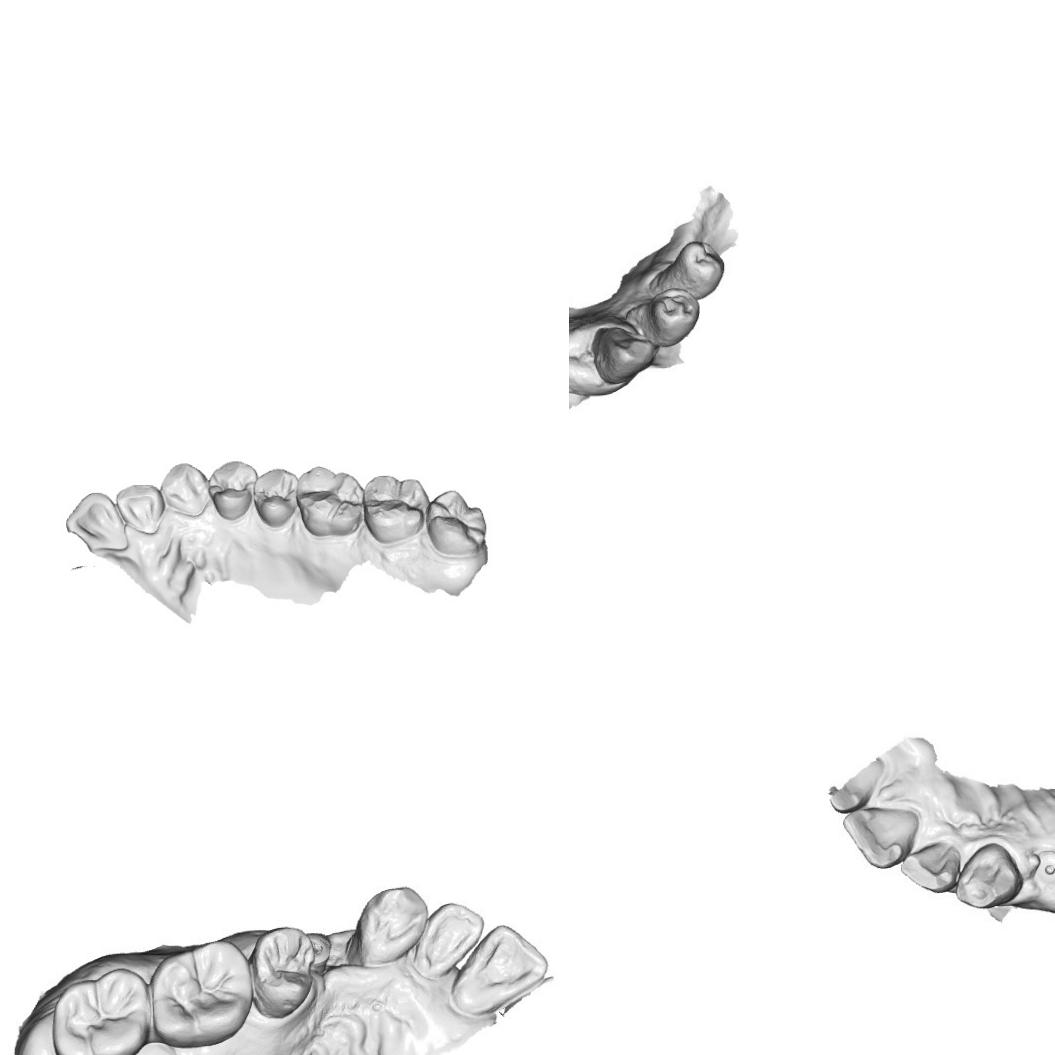canine: (343, 882, 432, 972), (953, 845, 1024, 909), (592, 326, 658, 386), (158, 460, 212, 518)
implant: (1032, 844, 1055, 893)
incisor: (447, 920, 552, 1022), (411, 899, 487, 981), (846, 801, 924, 873), (63, 490, 131, 553), (113, 482, 167, 536), (906, 843, 963, 892)
molar: (152, 942, 248, 1052), (47, 968, 152, 1055), (294, 463, 368, 538), (360, 470, 428, 546), (424, 487, 490, 560)
premolar: (251, 921, 321, 1014), (206, 459, 259, 522), (668, 240, 725, 296), (251, 466, 300, 530), (648, 287, 702, 343)
